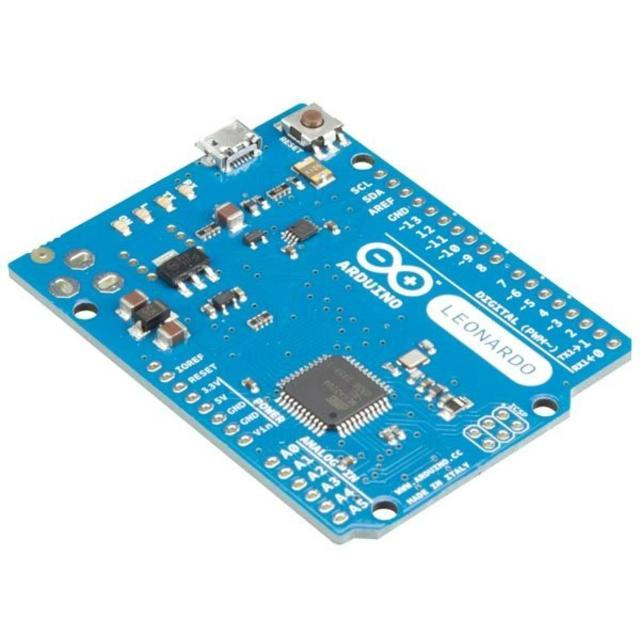Arduino-leonardo: (10, 104, 631, 542)
